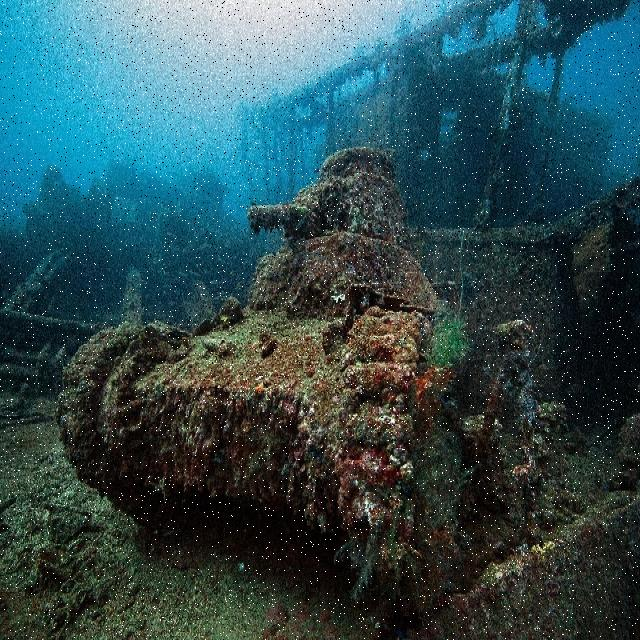wrecks-ruins: (54, 147, 639, 632)
